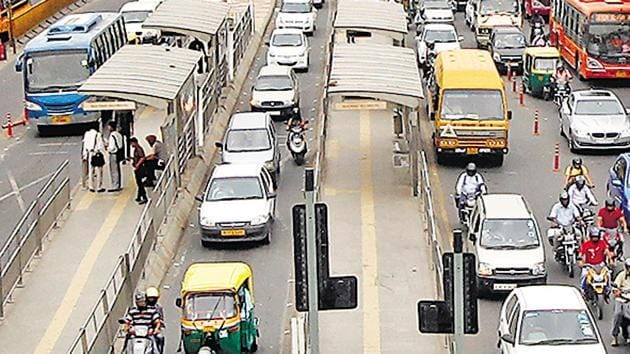HeavyVehicle: (426, 49, 510, 165)
LightVehicle: (195, 163, 275, 252)
